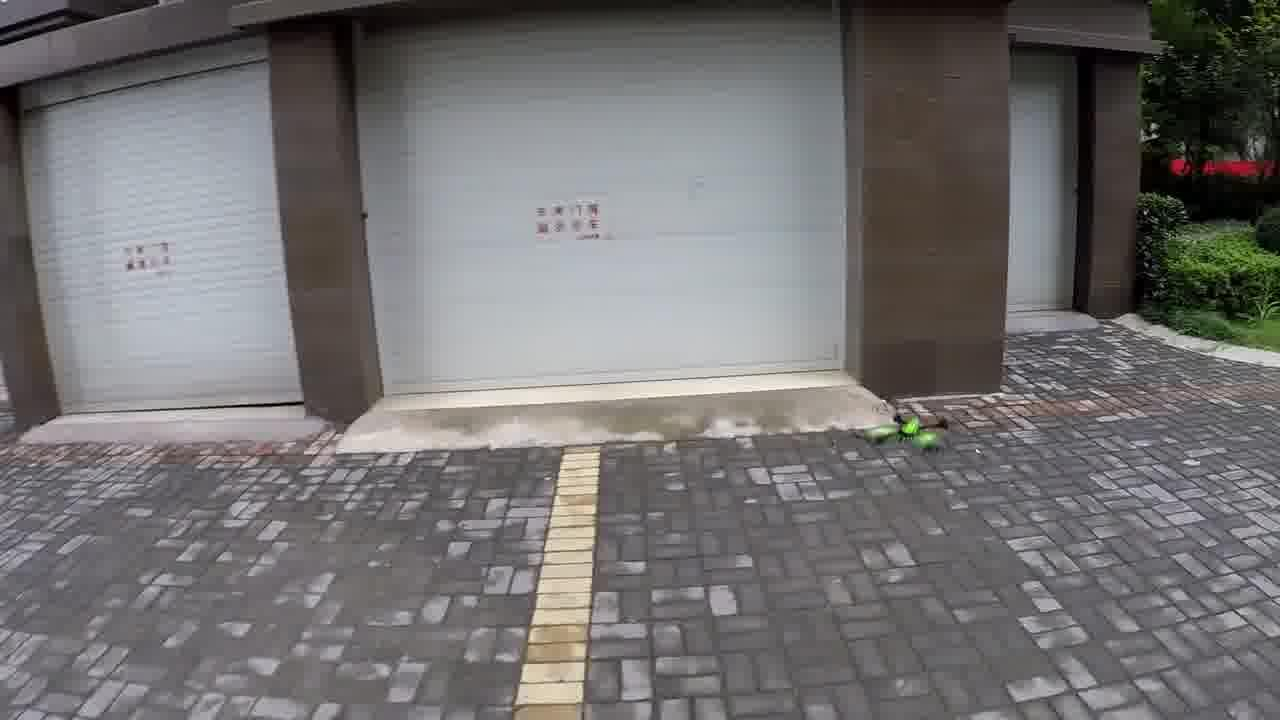drone: (850, 398, 971, 465)
